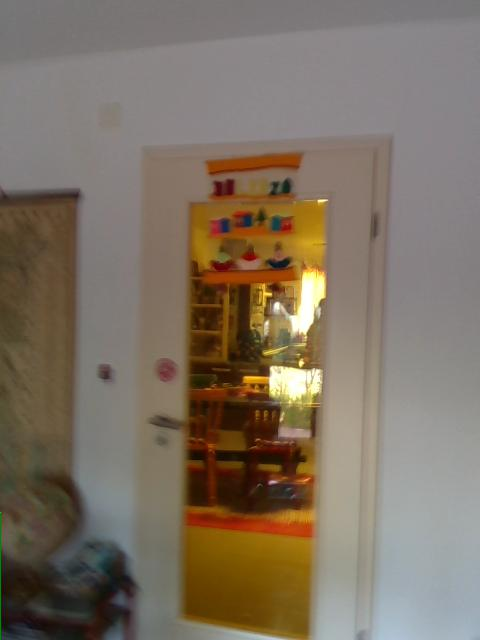door: (140, 148, 376, 639)
